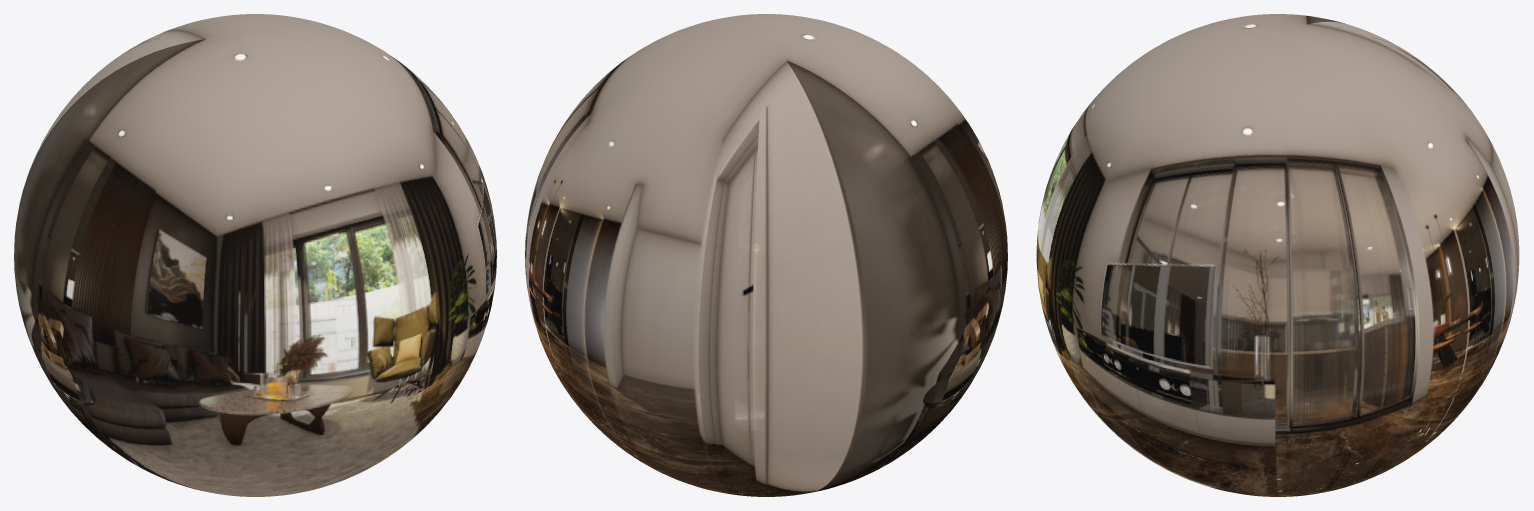
The model's file is hdri_-_sky_box_8k_-_modern_living_room_view.glb.
3 renders of one model, left to right at view 1: azimuth 30°, elevation 25°; view 2: azimuth 150°, elevation 25°; view 3: azimuth 270°, elevation 25°, orthographic.
Visible parts, largest first — view 1: Sphere001; view 2: Sphere001; view 3: Sphere001.
Boxes of the visible parts, <box> form: Sphere001: <box>14,14,496,496</box>; Sphere001: <box>525,14,1007,496</box>; Sphere001: <box>1036,14,1519,496</box>.
Bounding box in the file's own units: 200 × 200 × 200.
Materials: 1 (1 with a texture image).
